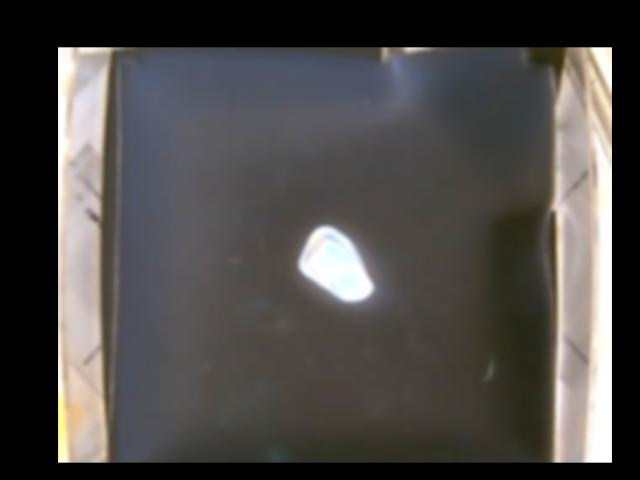Pebble: (295, 222, 374, 301)
